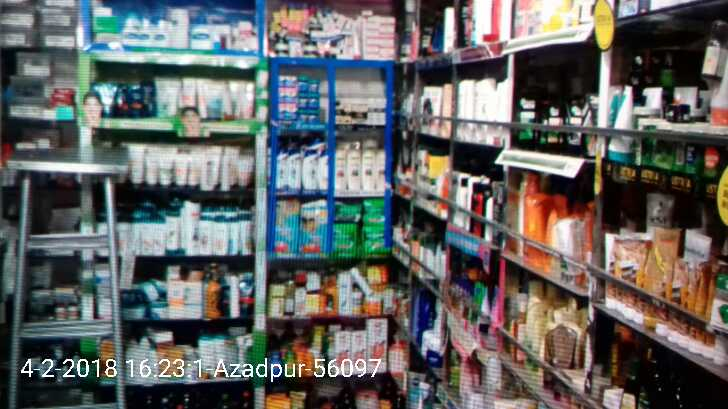vicks: (277, 70, 319, 127)
